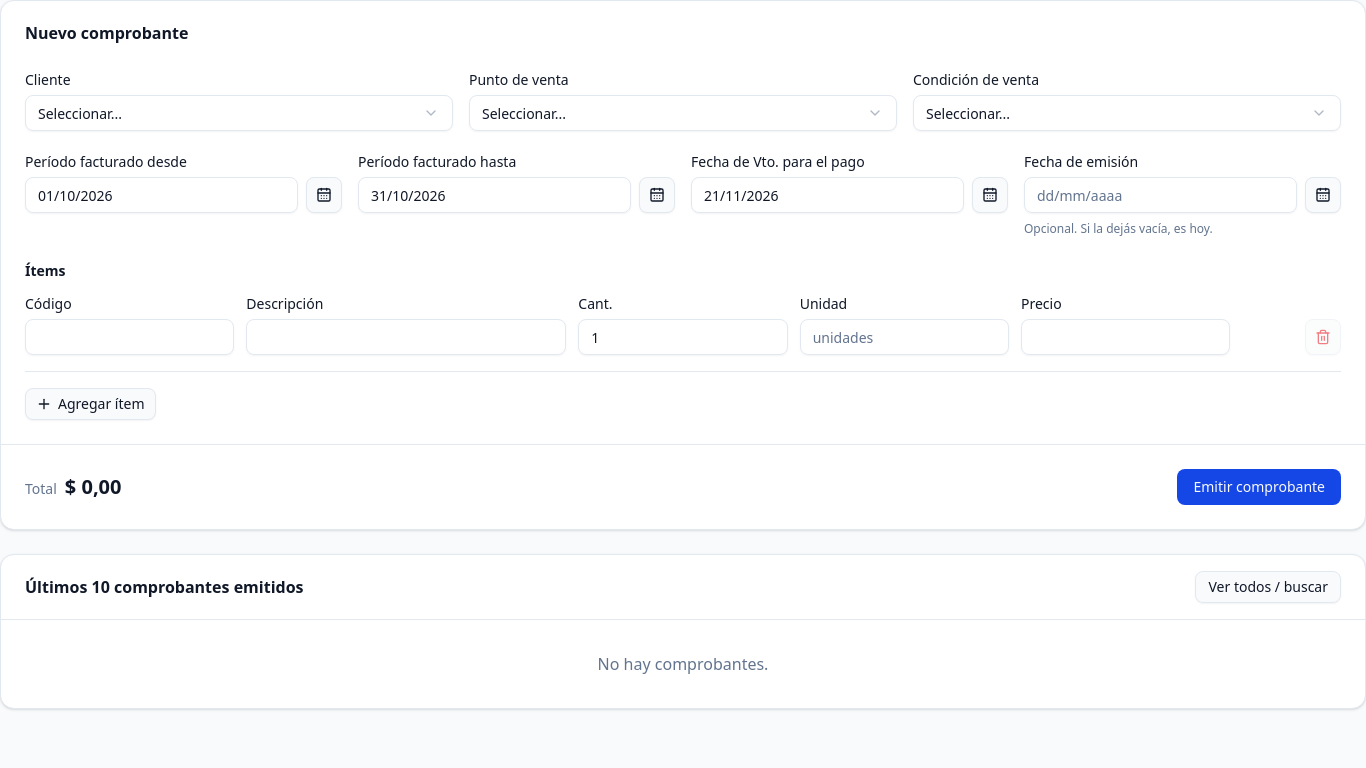
Invoices (facturar) › no deja escribir más de 2 decimales en precio y cantidad
Expected: the text "Nuevo comprobante" is shown, [25,22,188,44]
Type "10.999" into the number field labelled "Precio" at point(1126, 337), box [1021,319,1230,355]
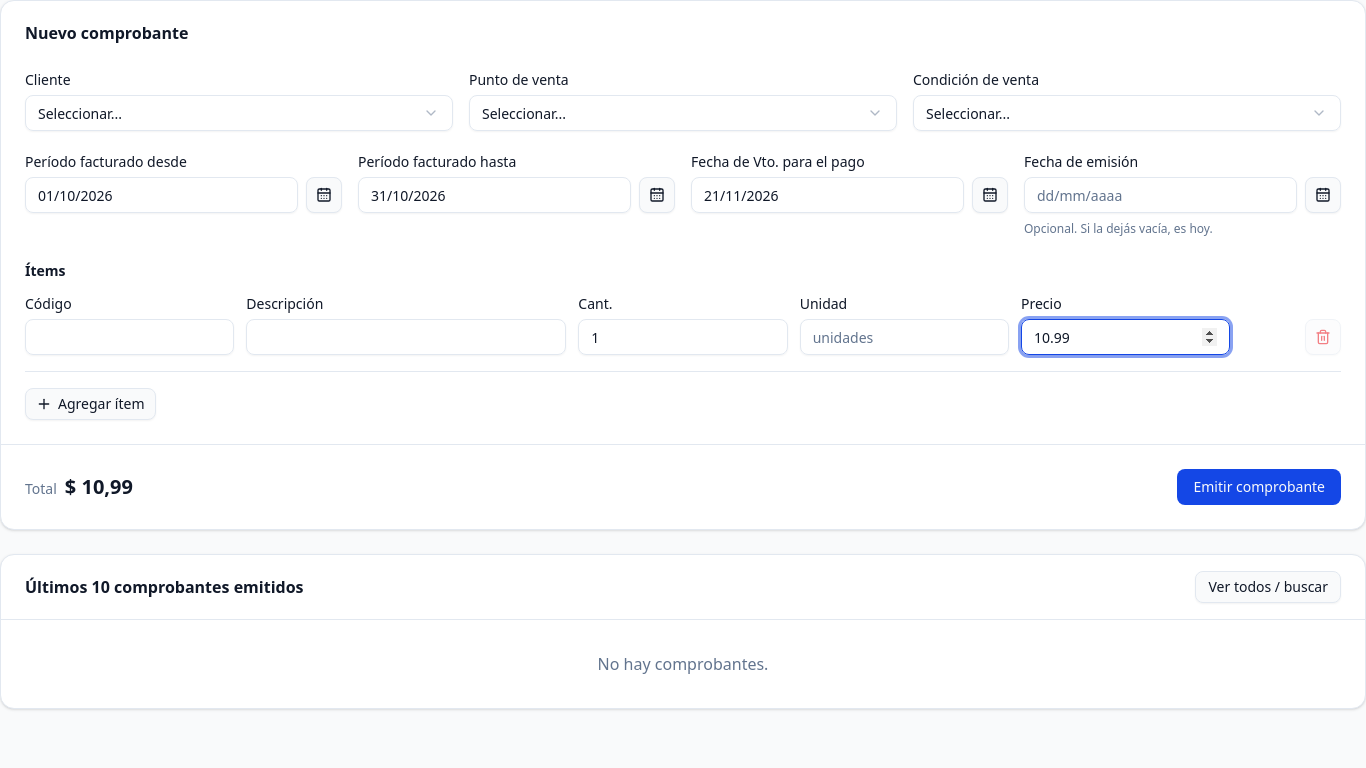
Replace the text in the number field labelled "Cant." with "2.555" at point(683, 337), box [578,319,788,355]
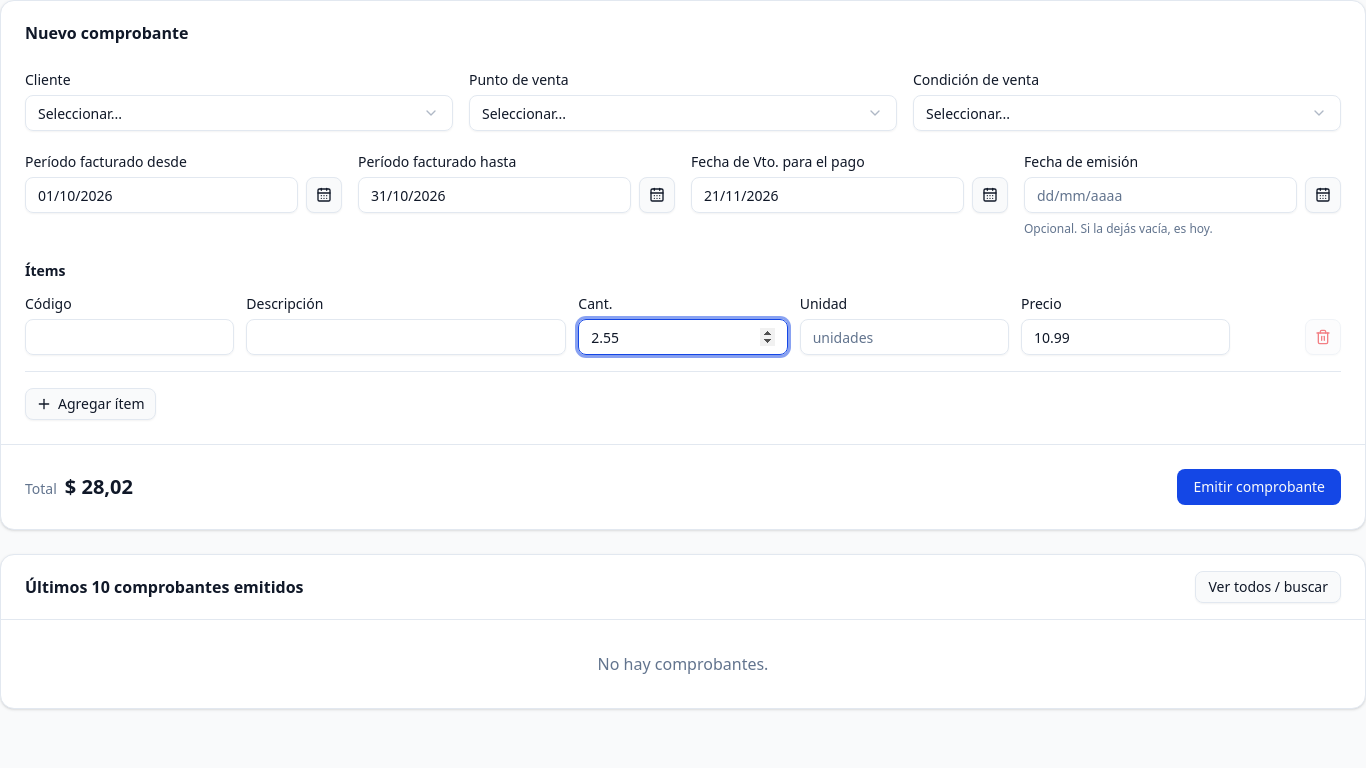
Result: the number field labelled "Precio" holds "10.99" at [1021,319,1230,355]
Result: the number field labelled "Cant." holds "2.55" at [578,319,788,355]
